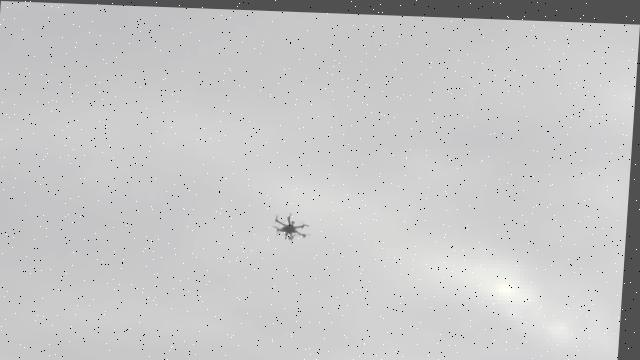drone: (0, 283, 625, 360)
